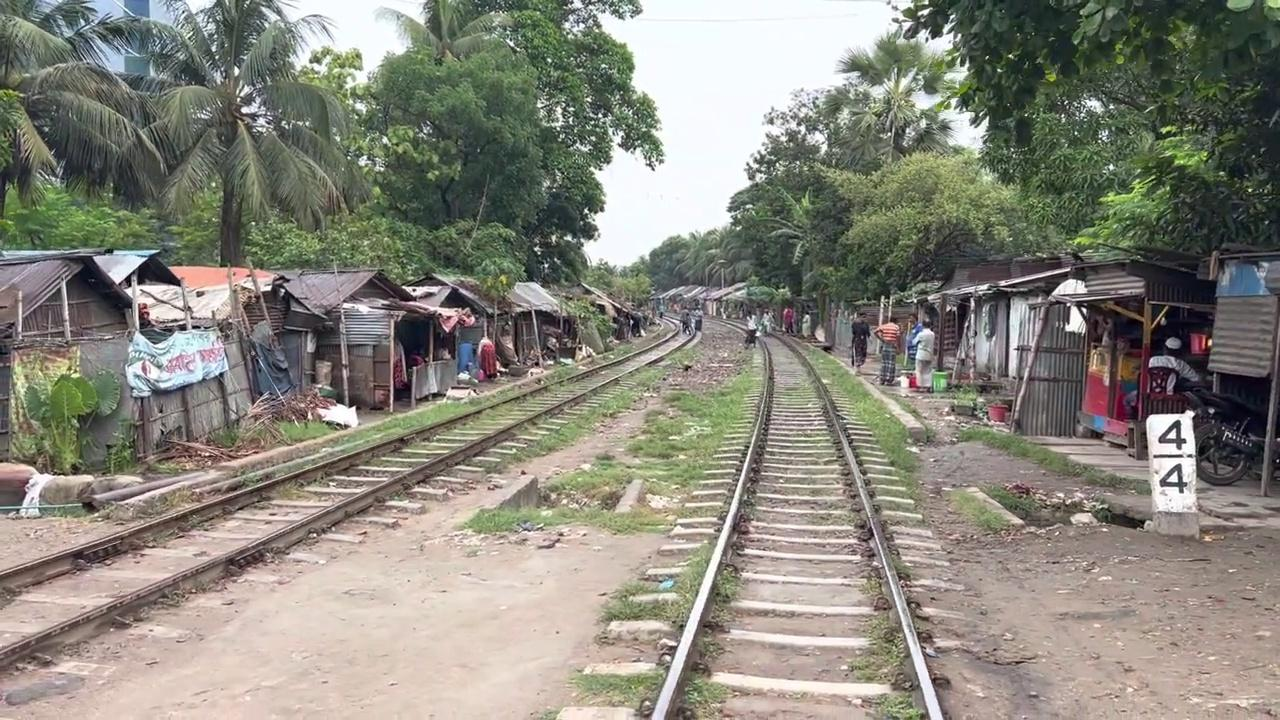Motorcycle: (1, 310, 749, 718), (649, 312, 946, 717)
Pothole: (1142, 406, 1210, 546)
